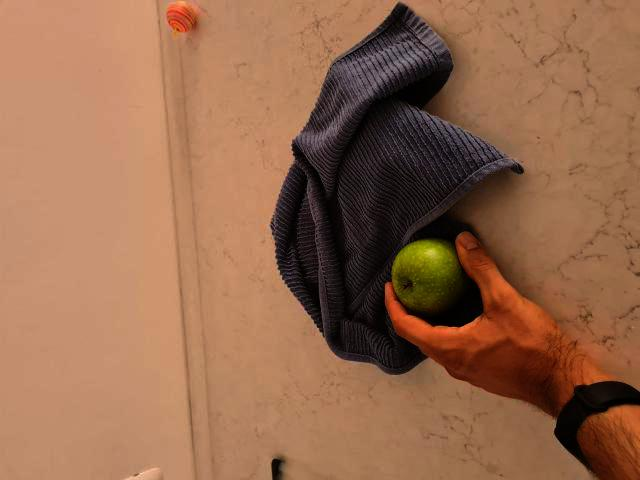apple: (388, 244, 483, 315)
